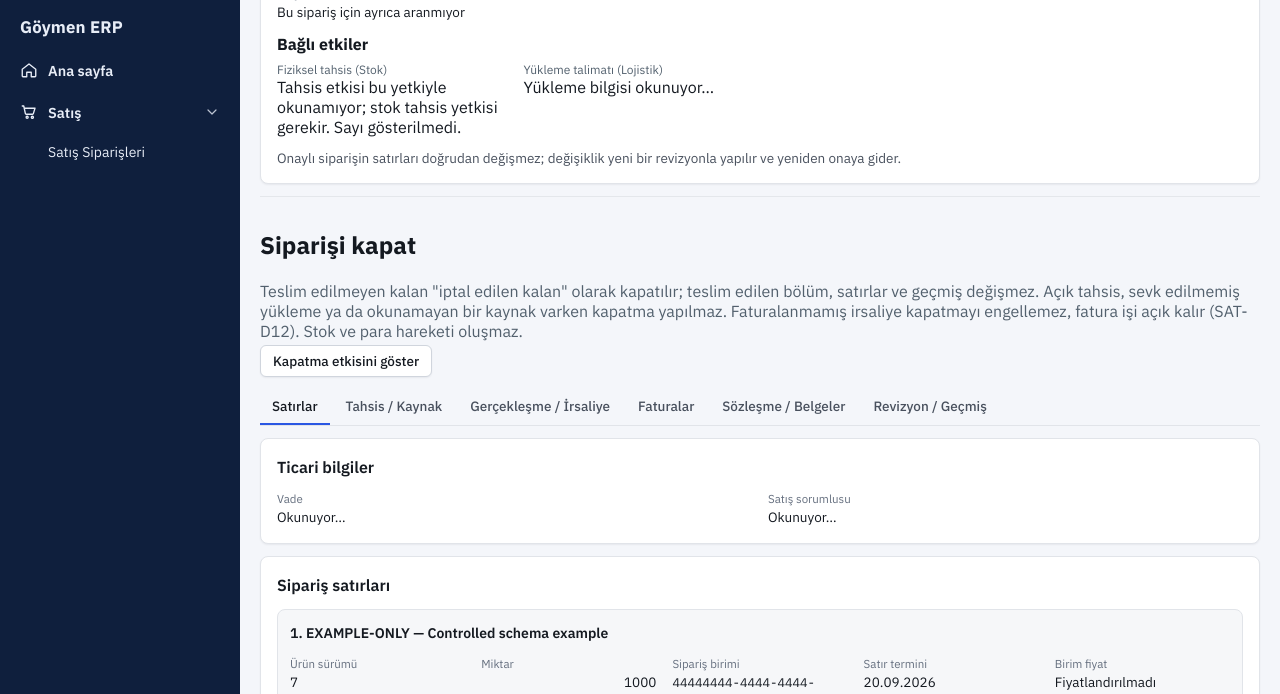
Test: S-04 force-close of an approved order (No 30, SAT-D12) › reads the preview again when the impact changed after the user saw it
This screenshot has width=1280, height=694.
(page scrolled)
Click the button with test id "sales-force-close-open": [346, 361] box [260,345,432,377]
(page scrolled)
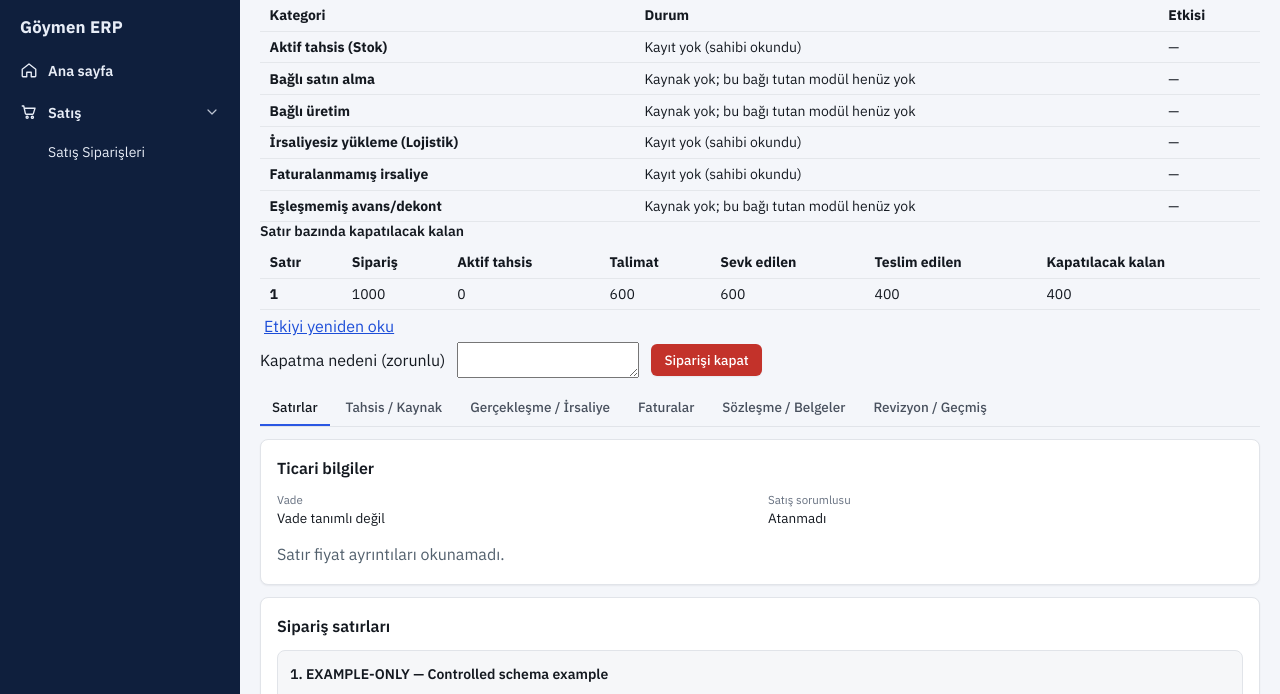
In the text box labelled "Kapatma nedeni (zorunlu)": [548, 360] box [457,342,639,378], type "neden"
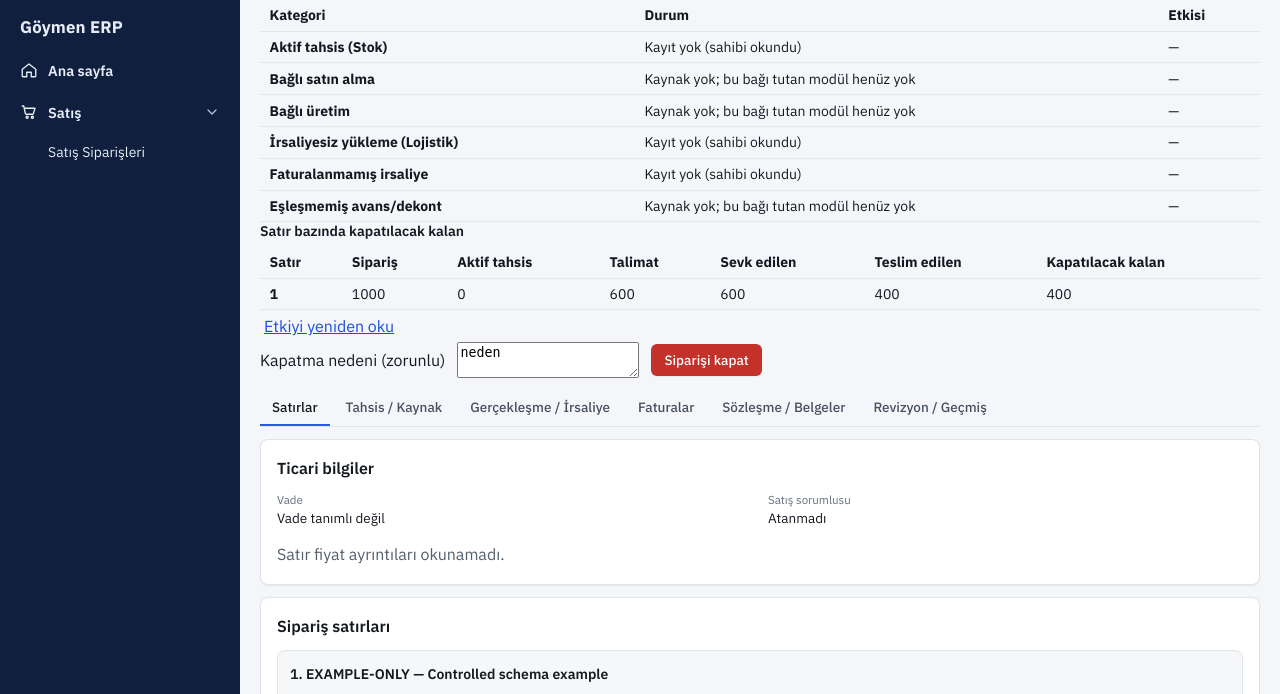
Click the button with test id "sales-force-close-submit": [707, 360] box [651,344,762,376]
(page scrolled)
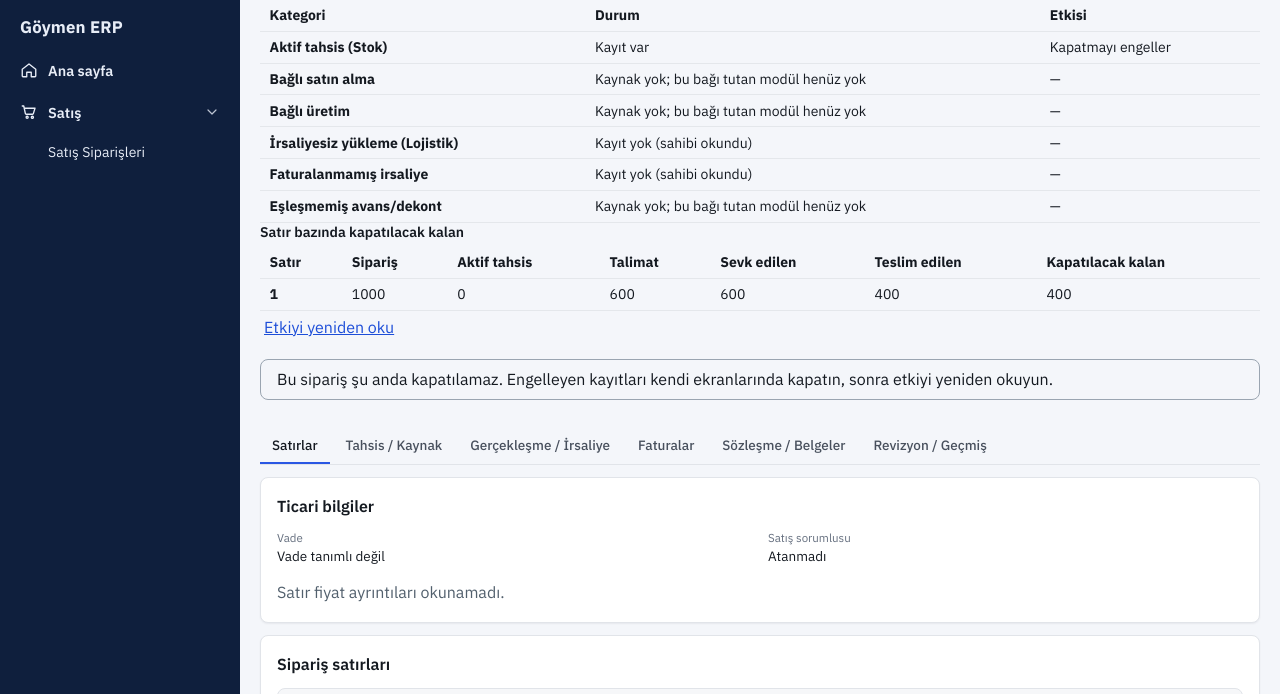
Result: the message with test id "sales-force-close-blocked" is shown at [260,358,1260,400]
